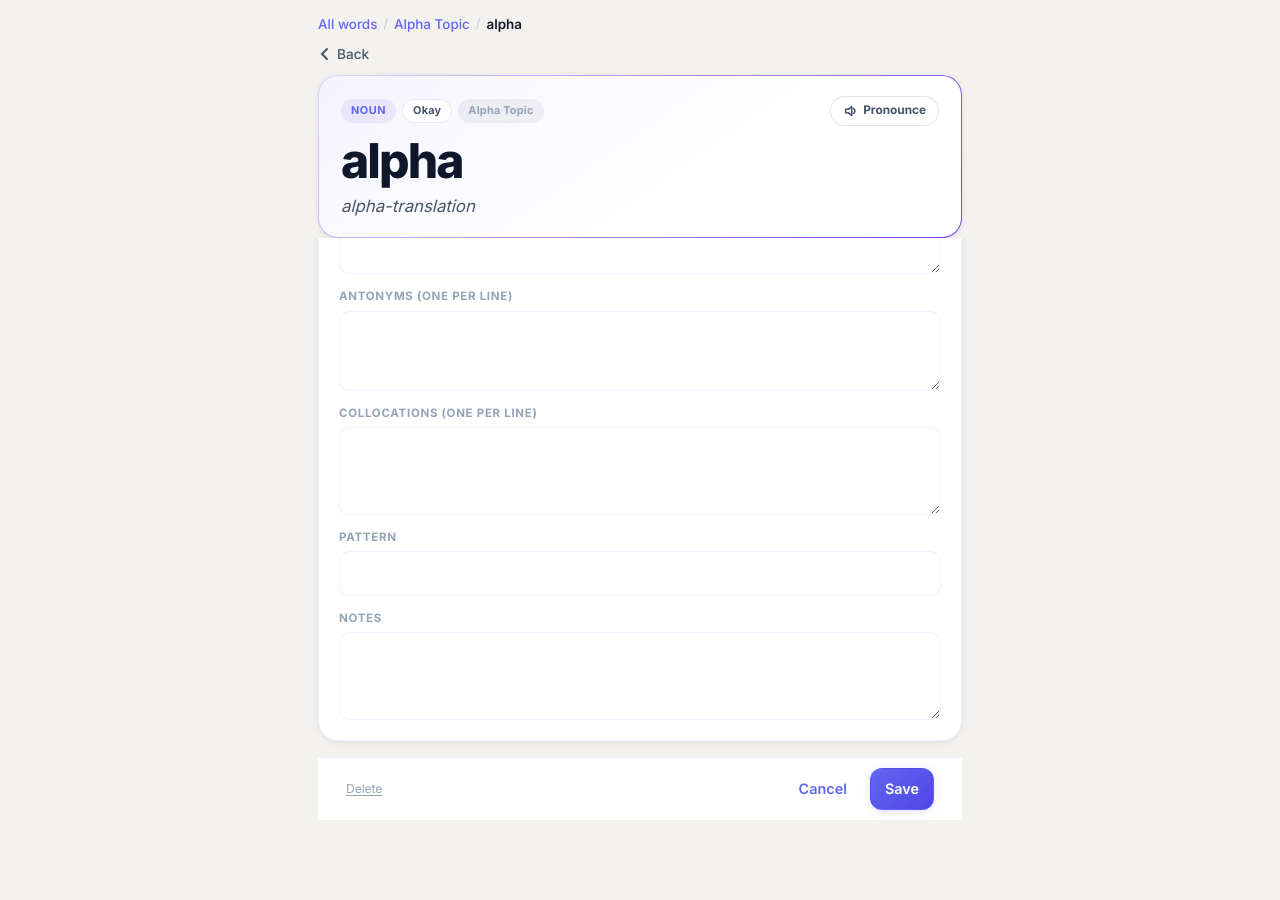
Test: WordPage — cache invalidation after delete › uses the backend trash retention setting in the delete confirmation copy
(page scrolled)
Click the button "Delete" at (364, 789), box x1=346 y1=780 x2=382 y2=798
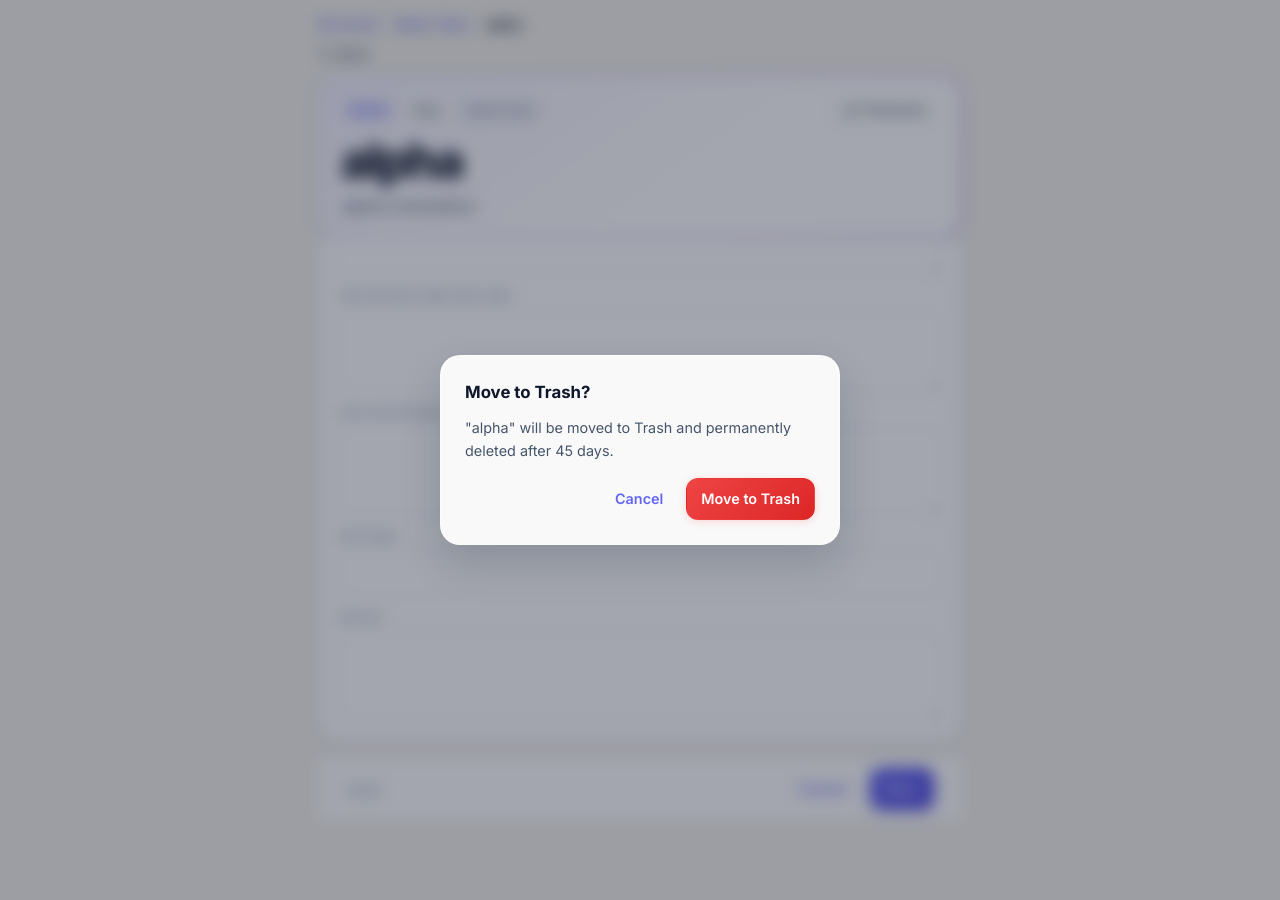
Now the text "\"alpha\" will be moved to Trash and permanently deleted after 45 days." is shown, box x1=465 y1=417 x2=815 y2=462
